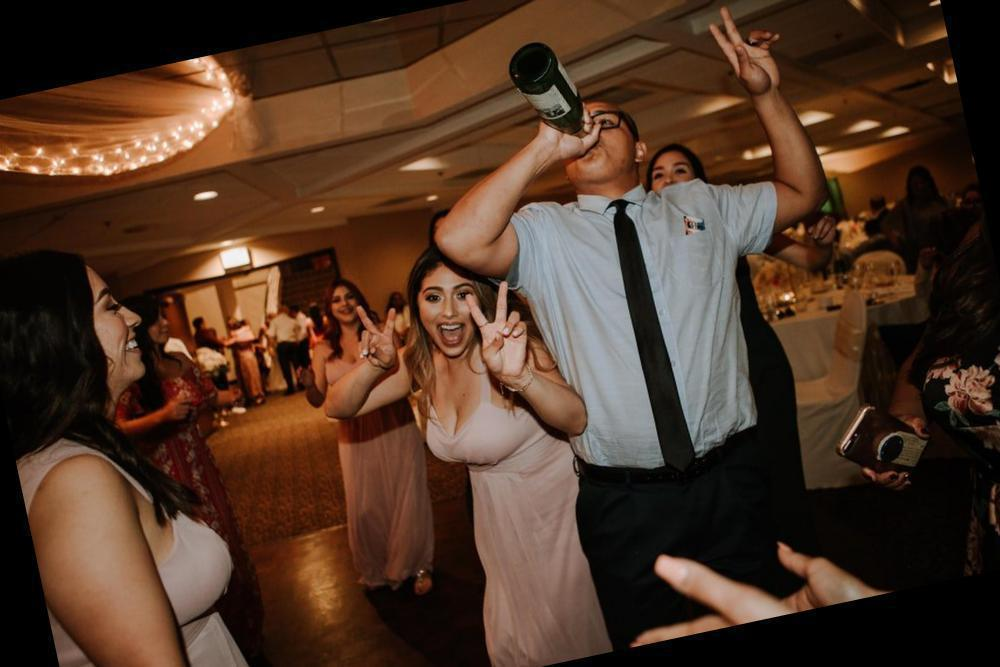Drunk: (418, 266, 480, 360)
